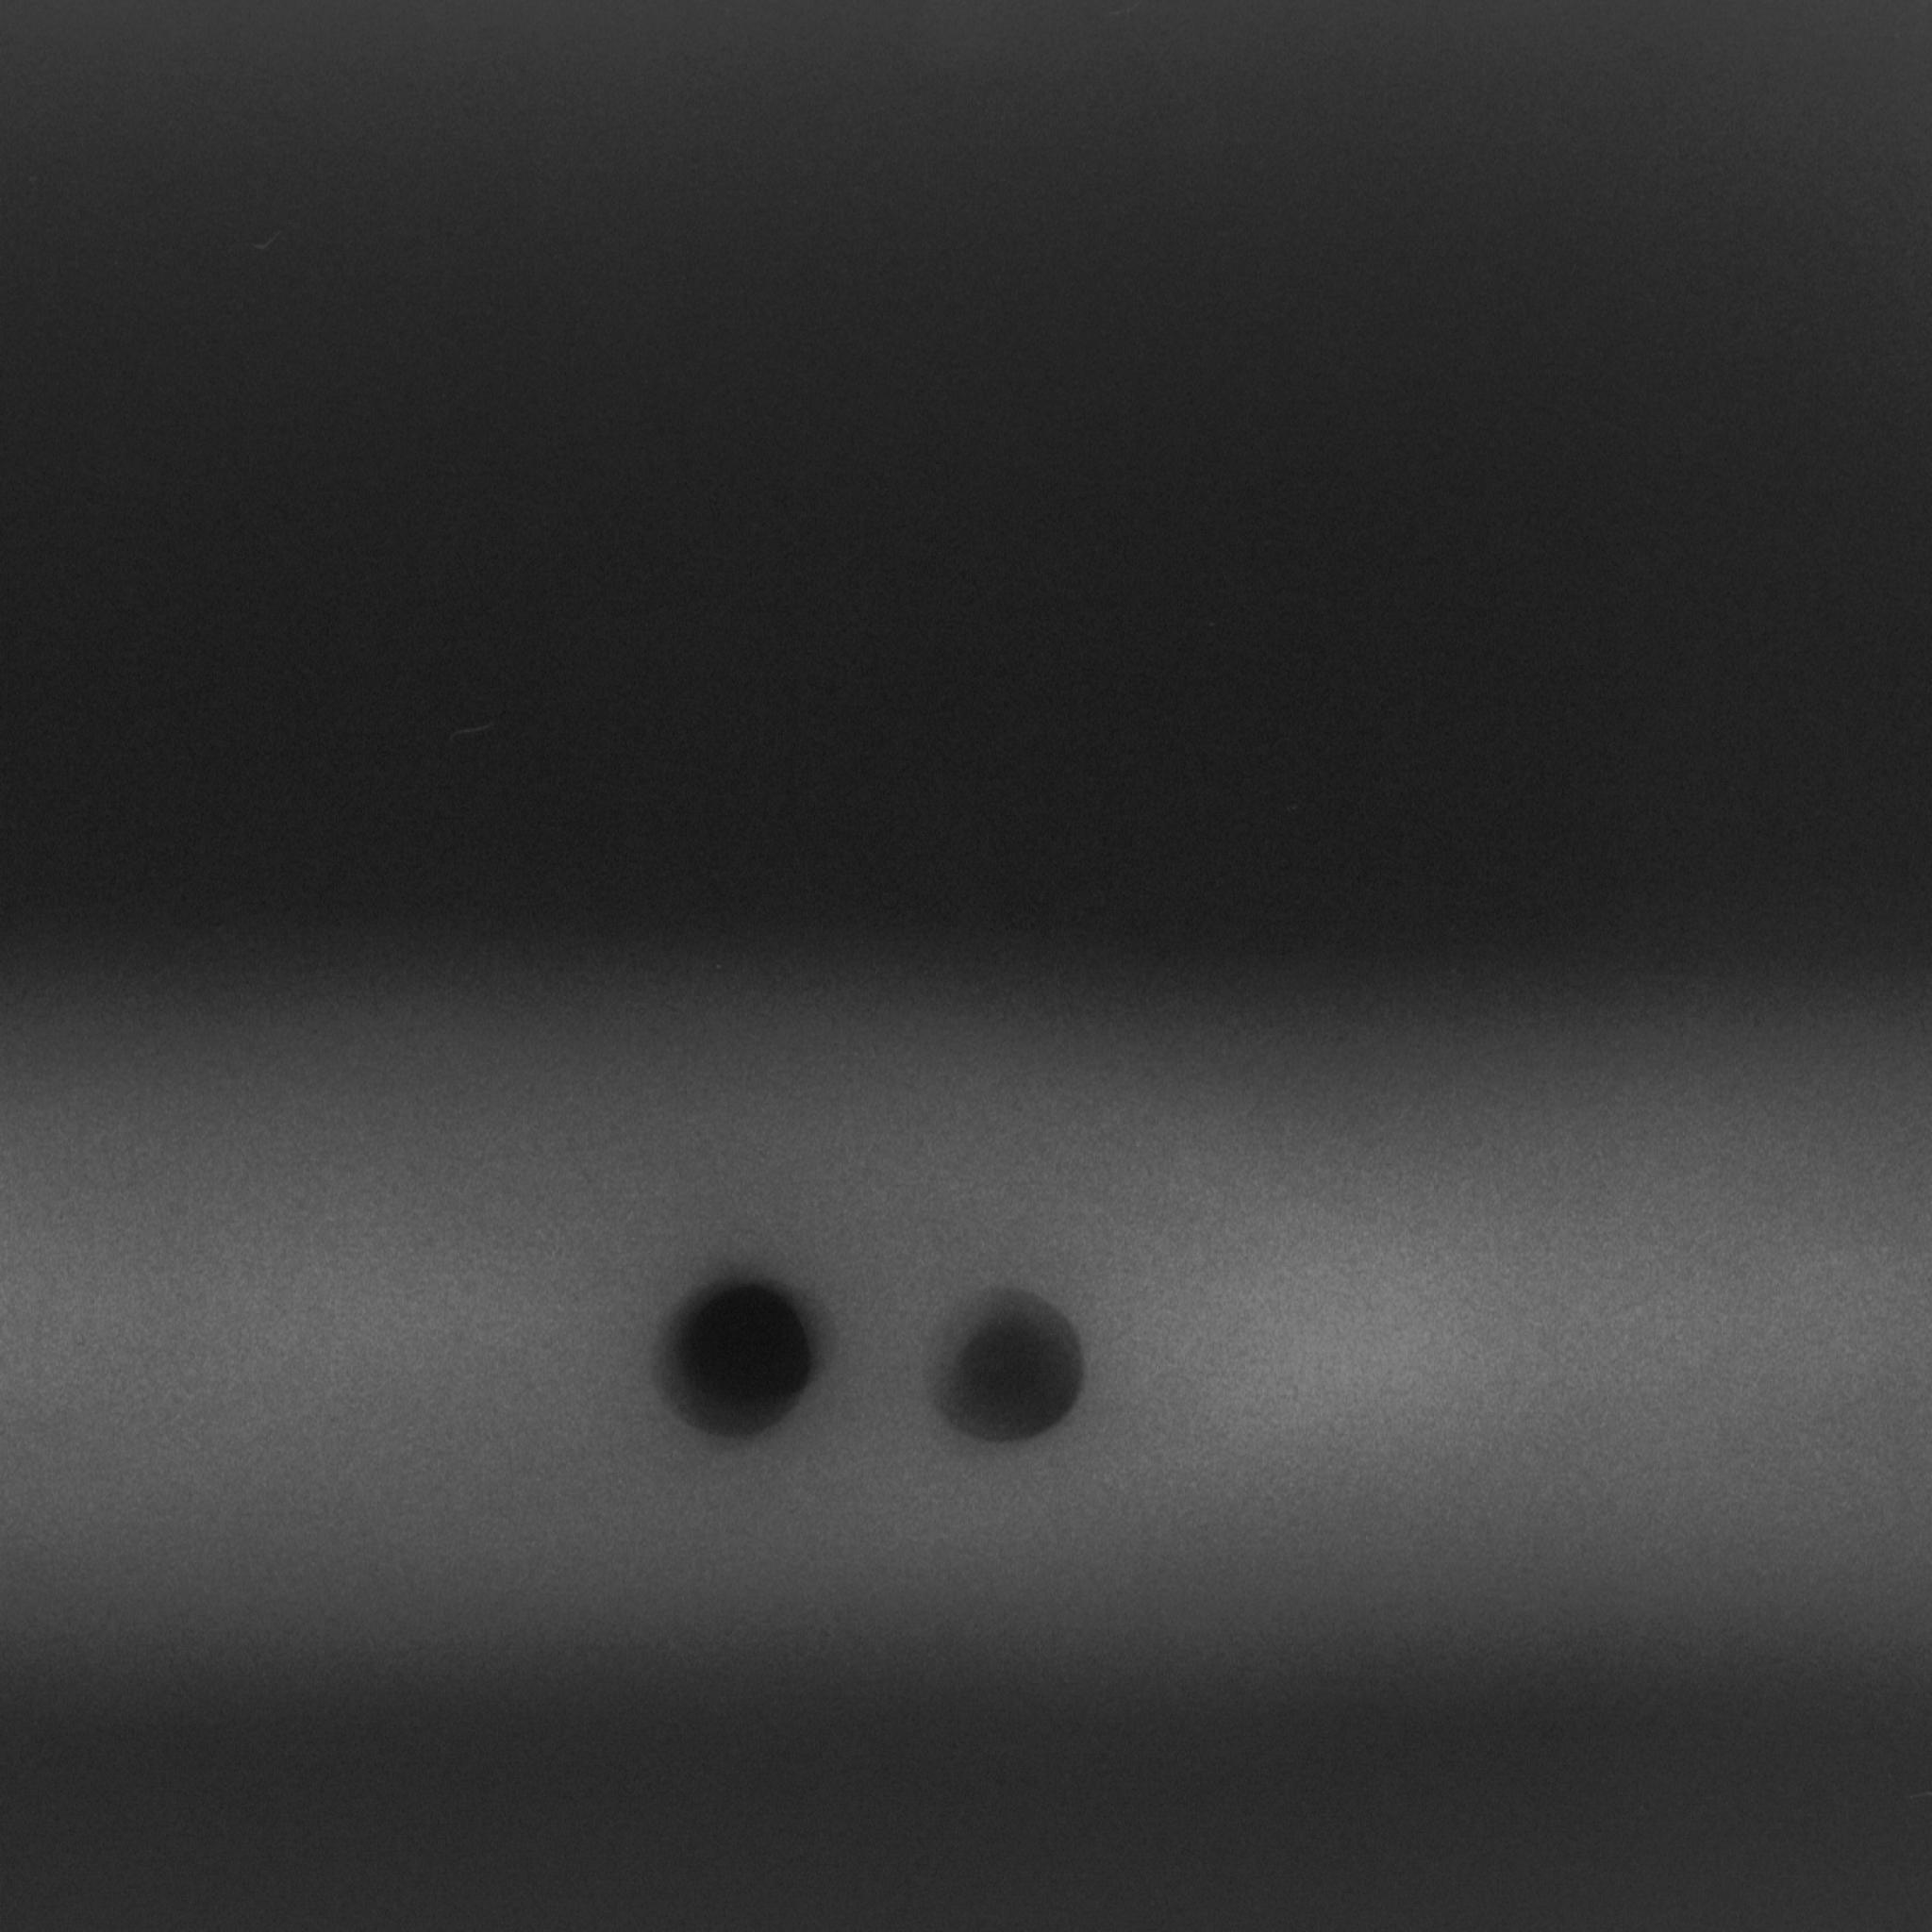PO: (580, 1191, 881, 1481), (878, 1242, 1148, 1484)
